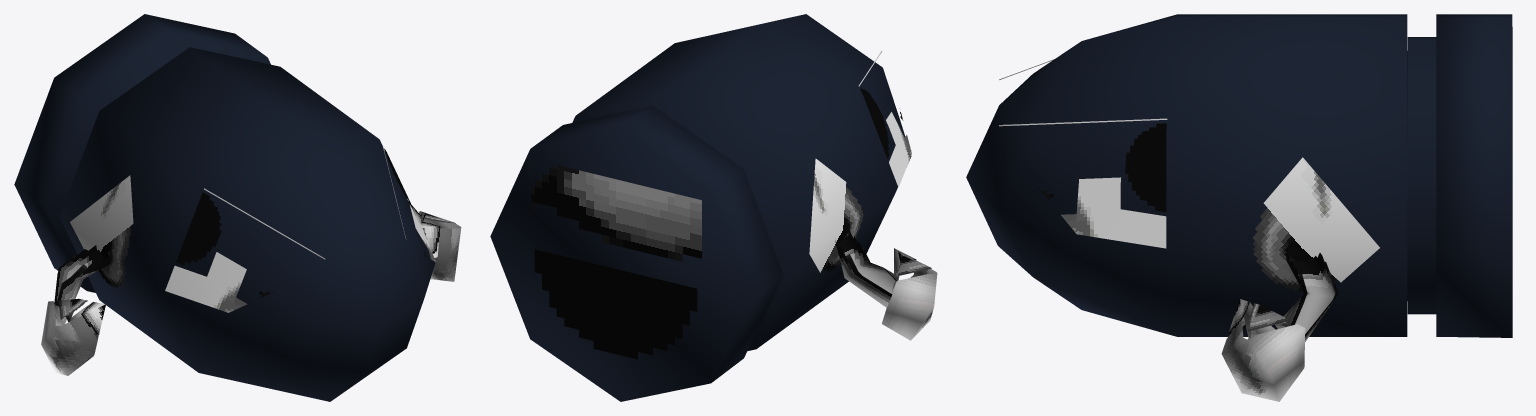
The model's file is Killer_Merged.dae.
3 views of the same model, side by side, from view 1: azimuth 30°, elevation 25°; view 2: azimuth 150°, elevation 25°; view 3: azimuth 270°, elevation 25° (orthographic). The views are drawn at different scales.
Visible parts, largest first — view 1: killer_body_model-node; view 2: killer_body_model-node; view 3: killer_body_model-node.
Part boxes in pixels (x1=…): killer_body_model-node: x1=14, y1=14, x2=461, y2=401; killer_body_model-node: x1=490, y1=14, x2=937, y2=401; killer_body_model-node: x1=966, y1=14, x2=1512, y2=401.
Size of the model in its own units: 39.01 by 38.77 by 24.37.
